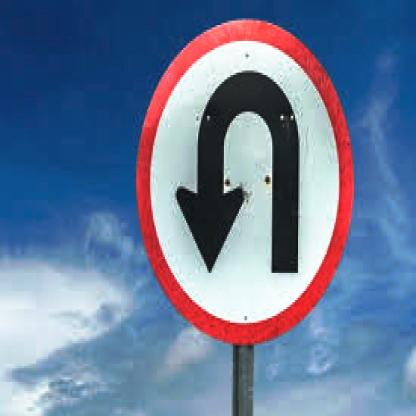U-turn: (138, 11, 357, 350)
